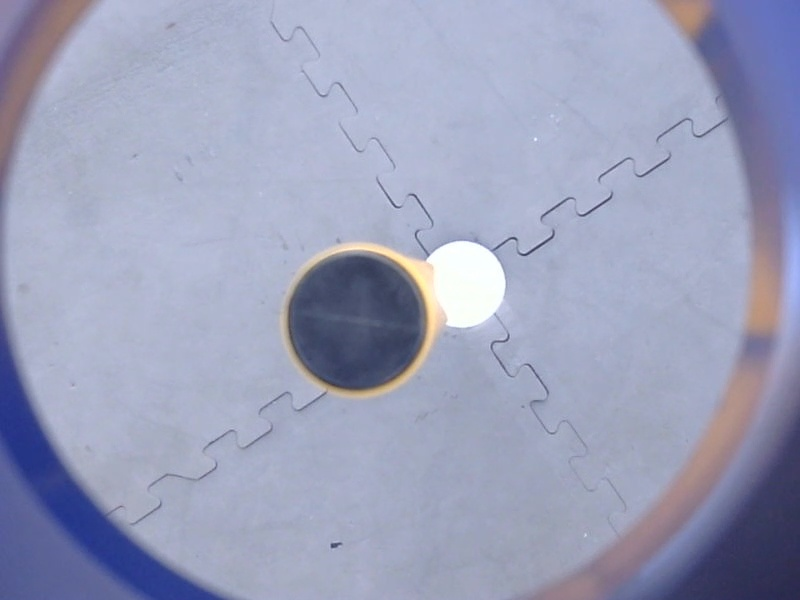tip: (271, 236, 441, 404)
